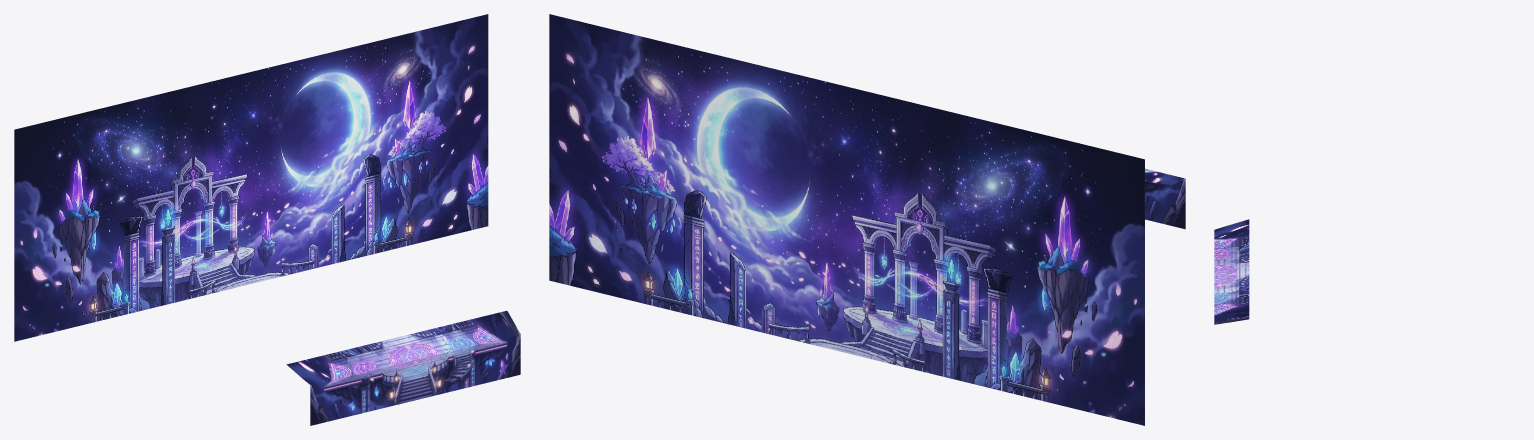
File: KeyFury_3D_CelestialVoid.glb
The picture shows the model from 3 angles, left to right: view 1: azimuth 30°, elevation 25°; view 2: azimuth 150°, elevation 25°; view 3: azimuth 270°, elevation 25°; orthographic projection. The views are drawn at different scales.
Visible parts, largest first — view 1: Celestial_Nebula_Backdrop, Celestial_Front_Wall, Celestial_Combat_Dais; view 2: Celestial_Nebula_Backdrop, Celestial_Front_Wall; view 3: Celestial_Combat_Dais.
Part boxes in pixels (x1,y1,x2,y2): Celestial_Nebula_Backdrop: [14, 14, 488, 341]; Celestial_Front_Wall: [310, 334, 520, 425]; Celestial_Combat_Dais: [286, 310, 520, 385]; Celestial_Nebula_Backdrop: [549, 14, 1144, 425]; Celestial_Front_Wall: [1145, 179, 1185, 229]; Celestial_Combat_Dais: [1214, 219, 1249, 324].
Size of the model in its own units: 46.66 by 19.95 by 28.
2 materials, 2 textured.
